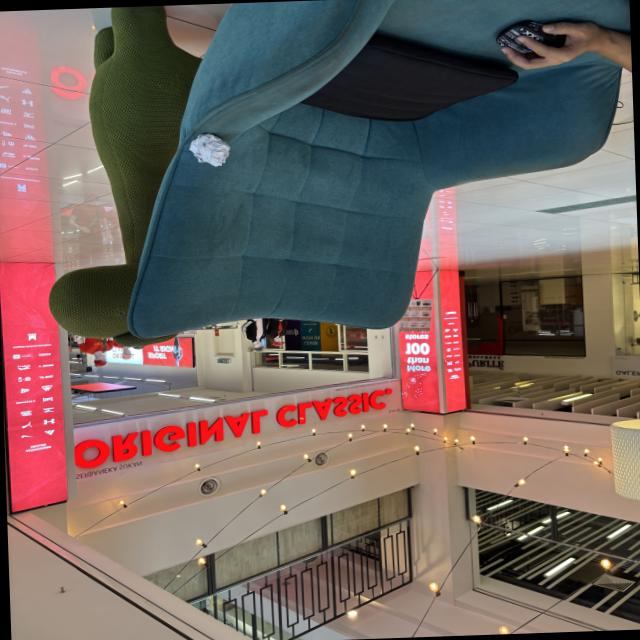crumpled_paper: (186, 130, 232, 170)
